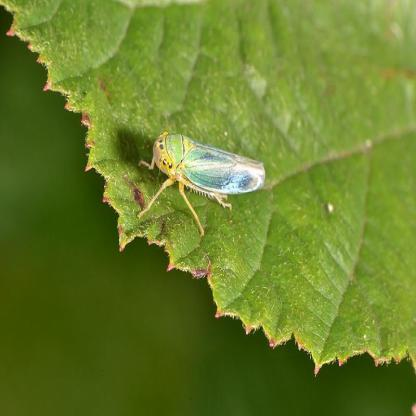Green-Leafhopper: (136, 126, 270, 235)
